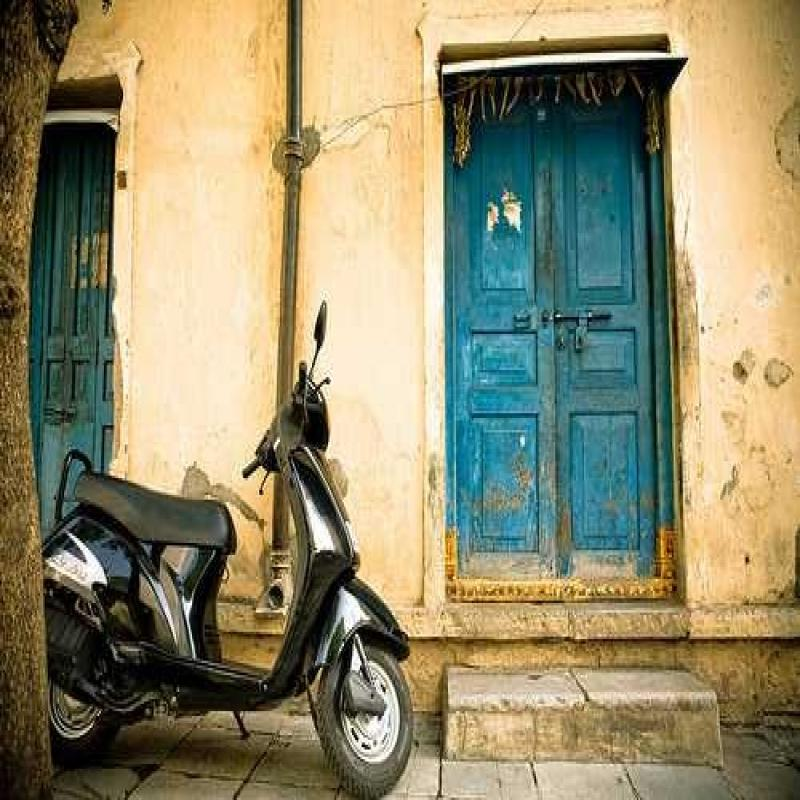bike: (26, 333, 420, 788)
